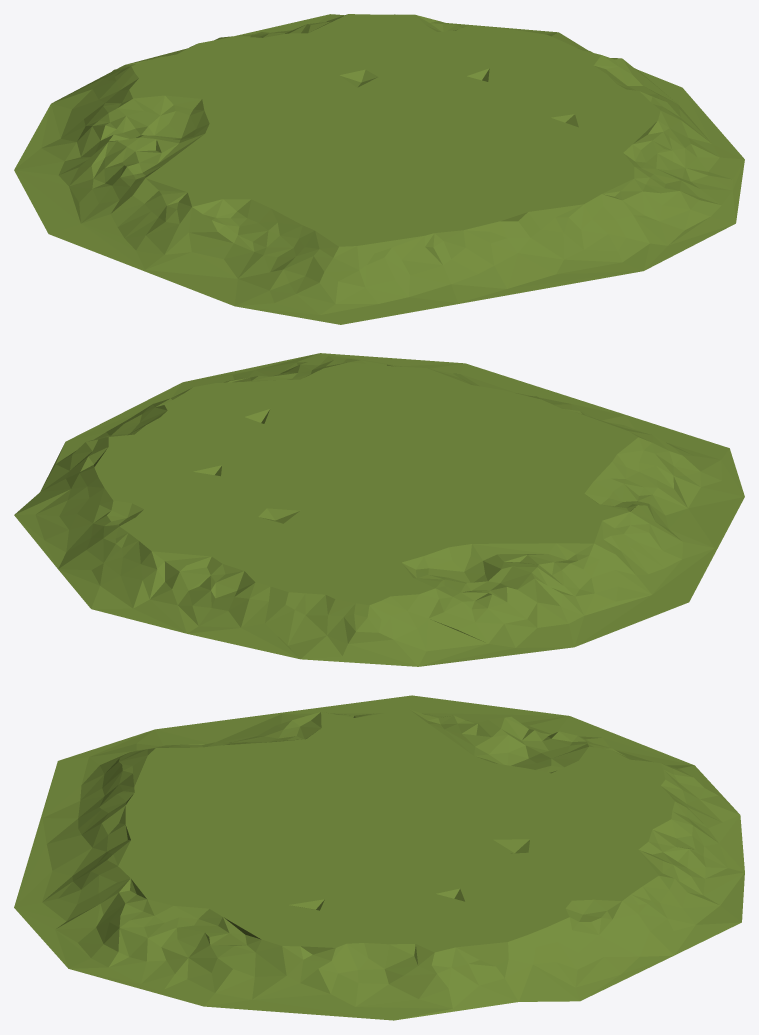
Rendered from TerrainGrass_2.fbx.
3 renders of one model, top to bottom at view 1: azimuth 30°, elevation 25°; view 2: azimuth 150°, elevation 25°; view 3: azimuth 270°, elevation 25°, orthographic. The views are drawn at different scales.
Visible parts, largest first — view 1: TerrainGrass_2; view 2: TerrainGrass_2; view 3: TerrainGrass_2.
Part boxes in pixels (<box>): TerrainGrass_2: <box>14,14,744,324</box>; TerrainGrass_2: <box>14,353,744,666</box>; TerrainGrass_2: <box>14,695,744,1020</box>.
Size of the model in its own units: 2699 by 140 by 2564.
